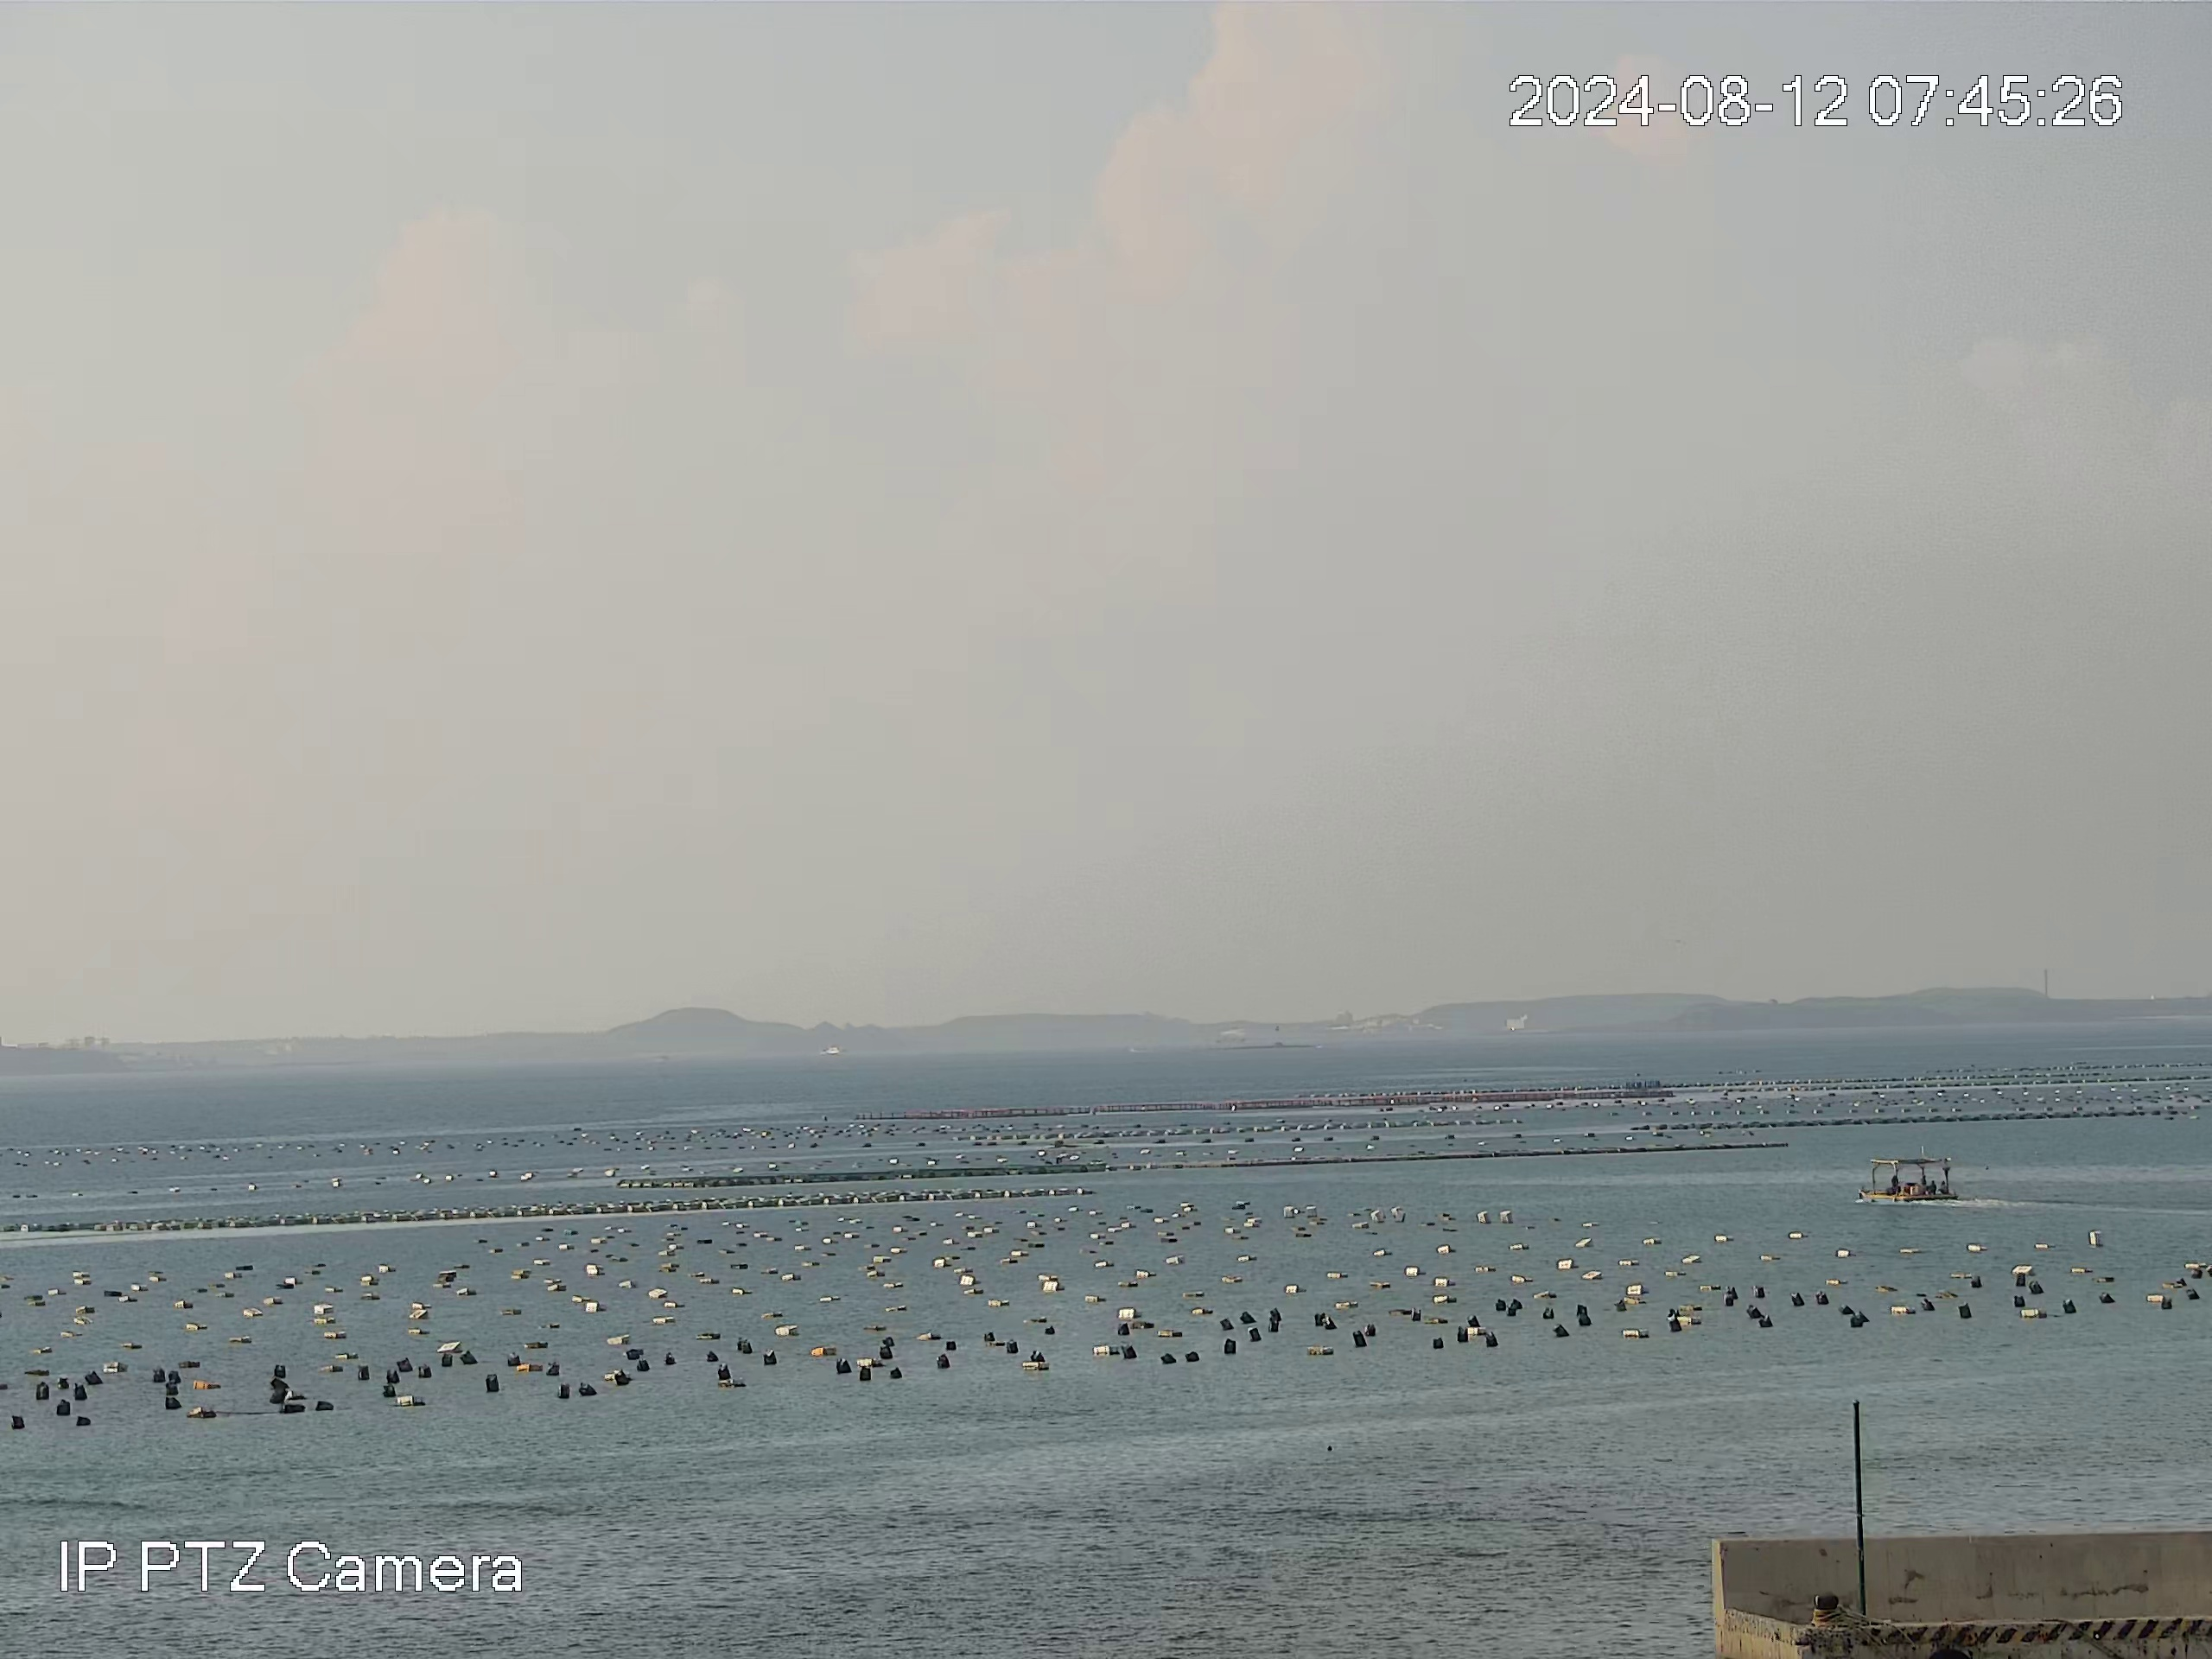boat: (1860, 1152, 1965, 1213)
